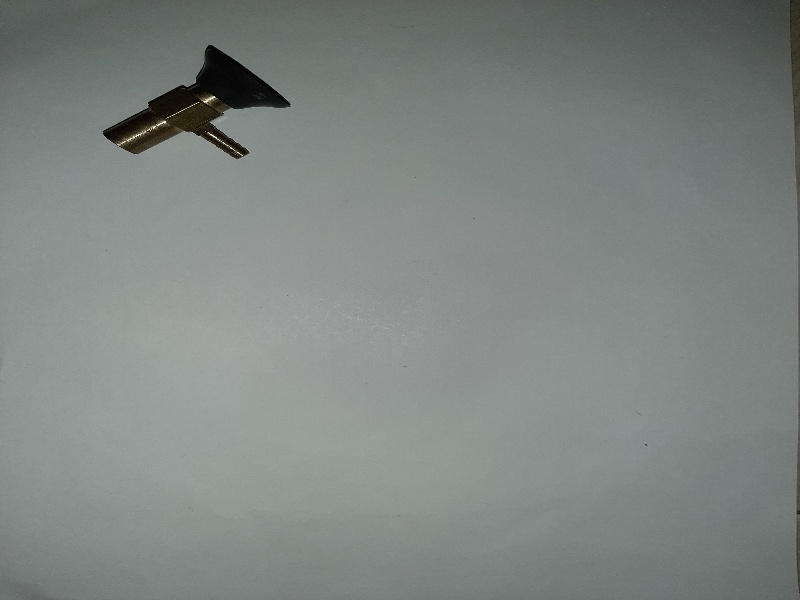Joint Hold: (102, 44, 292, 166)
